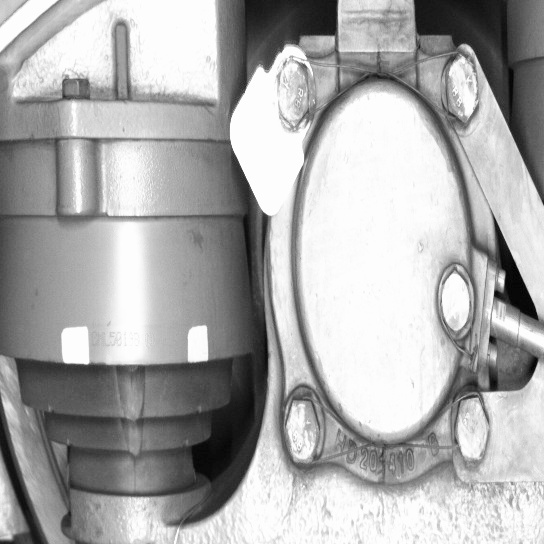IronWire: (267, 42, 485, 137), (279, 386, 497, 472)
Screw: (433, 42, 485, 129), (267, 51, 318, 137), (279, 388, 327, 472), (447, 386, 496, 468), (432, 262, 478, 342)
